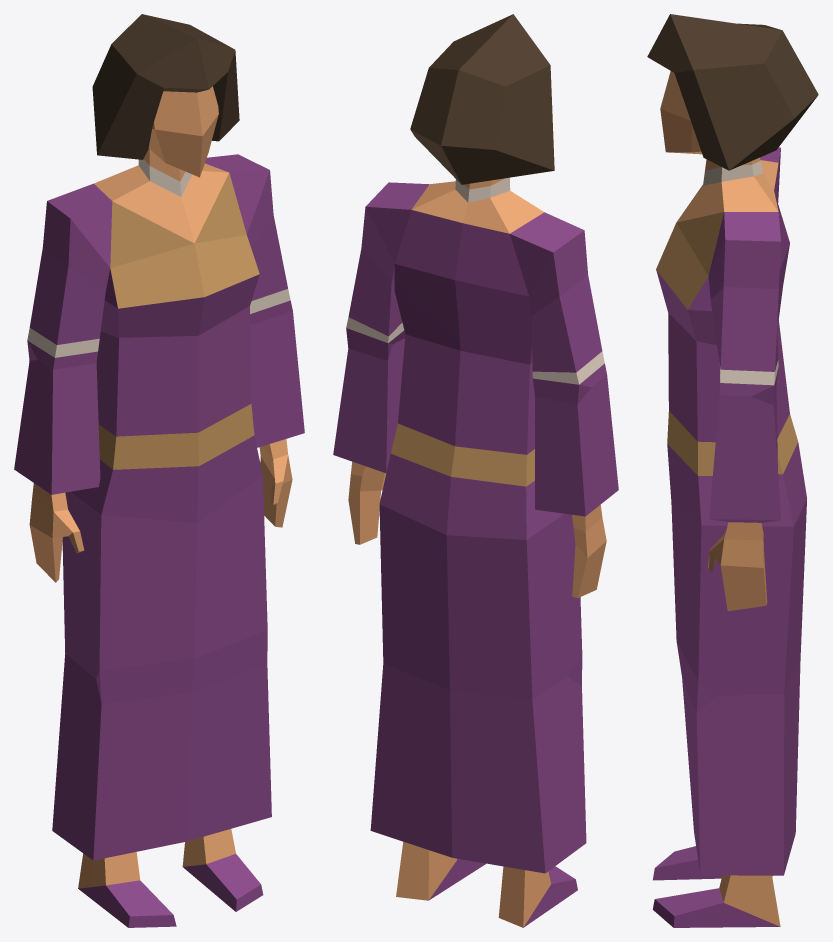
Rendered from woman-lady-rival.glb.
3 views of the same model, side by side, from view 1: azimuth 30°, elevation 25°; view 2: azimuth 150°, elevation 25°; view 3: azimuth 270°, elevation 25° (orthographic). The views are drawn at different scales.
Parts seen in each view (by area): view 1: woman-lady-rival; view 2: woman-lady-rival; view 3: woman-lady-rival.
Part boxes in pixels (x1,y1,x2,y2): woman-lady-rival: (14,14,304,927); woman-lady-rival: (333,14,618,927); woman-lady-rival: (647,14,818,927).
Size of the model in its own units: 0.5642 by 1.84 by 0.3239.
Materials: 1 (1 with a texture image).
